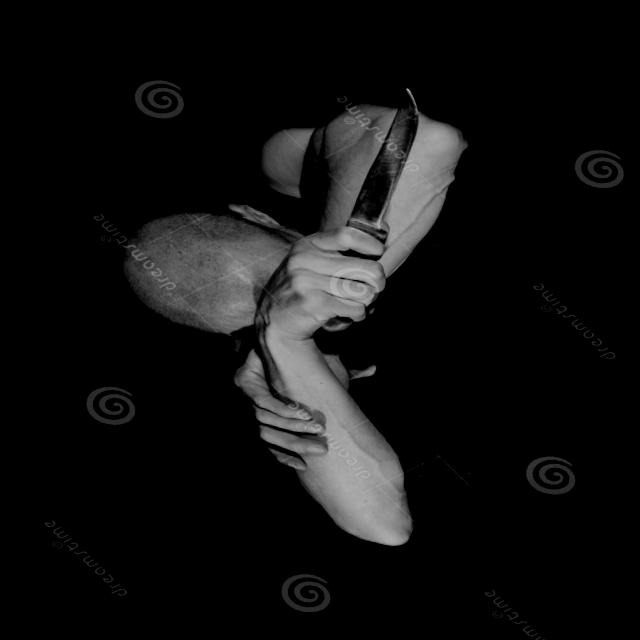knife: (293, 70, 427, 322)
